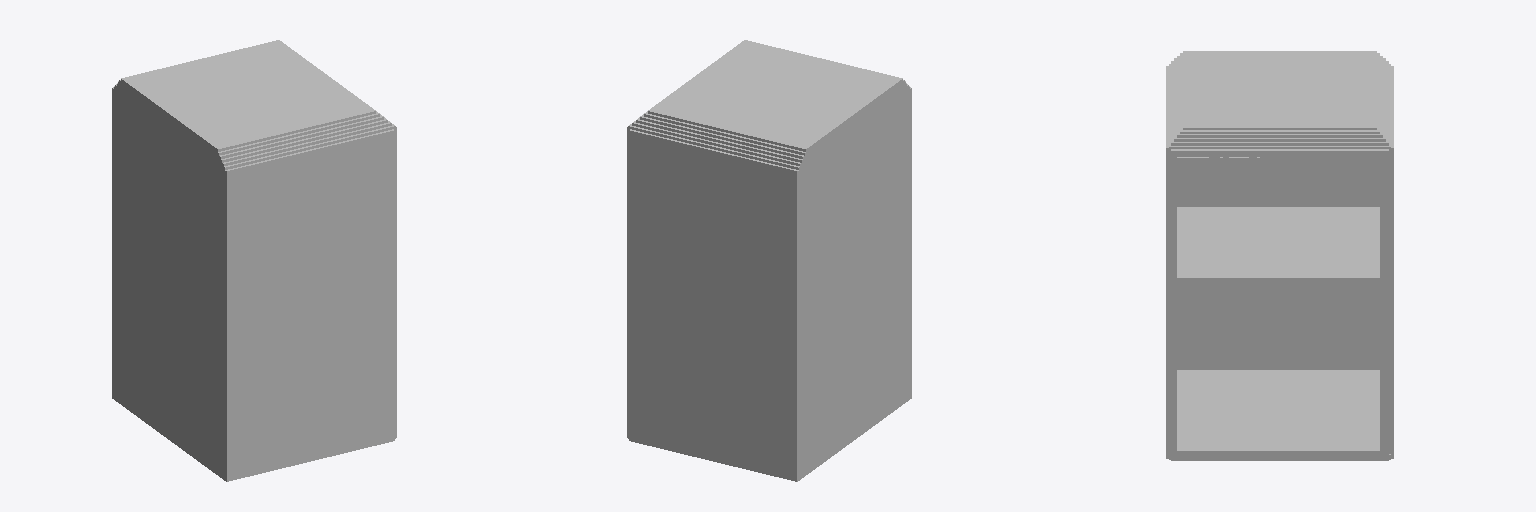
File: fridge.obj
The picture shows the model from 3 angles: view 1: azimuth 30°, elevation 25°; view 2: azimuth 150°, elevation 25°; view 3: azimuth 270°, elevation 25°; orthographic projection.
Visible parts, largest first — view 1: object 1; view 2: object 1; view 3: object 1.
Boxes of the visible parts, <box> form: object 1: <box>112,40,396,481</box>; object 1: <box>627,40,911,481</box>; object 1: <box>1166,51,1393,460</box>.
Size of the model in its own units: 7 by 12.6 by 8.